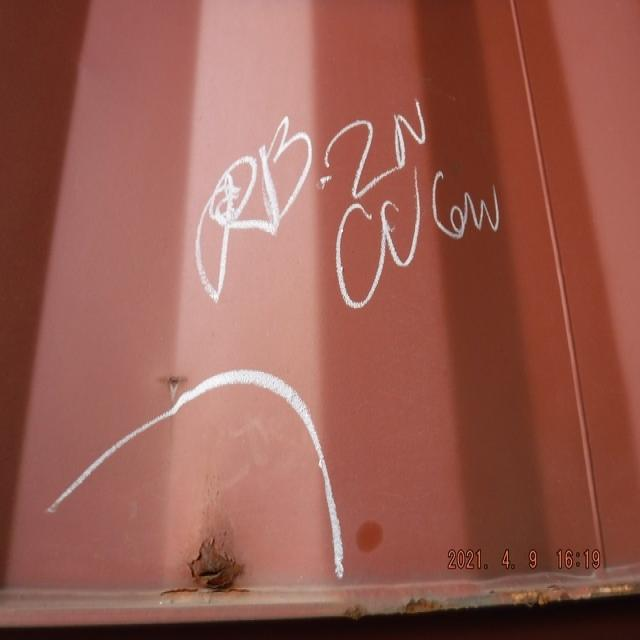hole: (186, 535, 250, 590)
